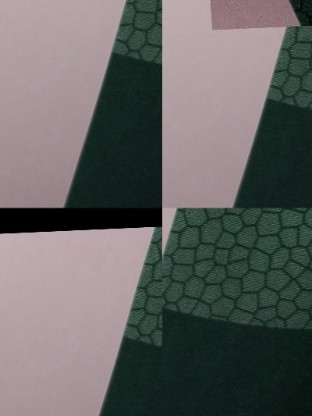ironball: (208, 0, 311, 30)
